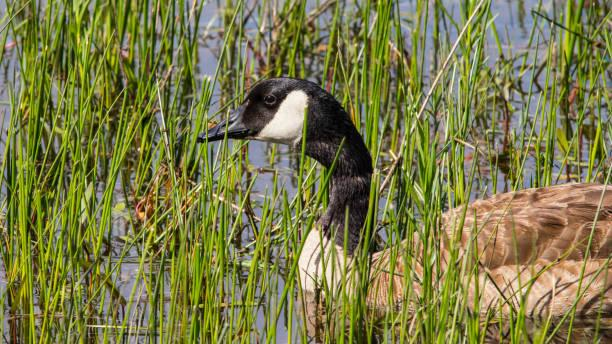Canadian-Goose: (202, 75, 612, 312)
